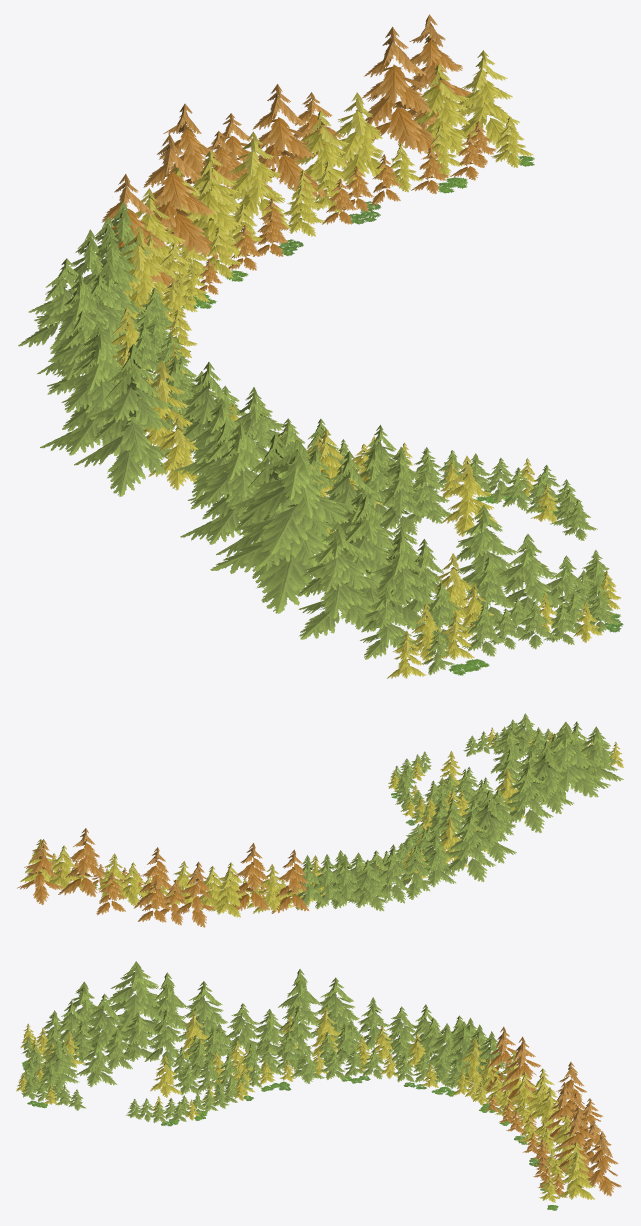
Rendered from area_12_25.fbx.
3 renders of one model, top to bottom at view 1: azimuth 30°, elevation 25°; view 2: azimuth 150°, elevation 25°; view 3: azimuth 270°, elevation 25°, orthographic. The views are drawn at different scales.
Parts seen in each view (by area): view 1: area_12_25; view 2: area_12_25; view 3: area_12_25.
Part boxes in pixels (x1,y1,x2,y2): area_12_25: (18,14,623,678); area_12_25: (17,713,623,927); area_12_25: (16,961,621,1210).
Bounding box in the file's own units: 88.77 × 19.67 × 124.
